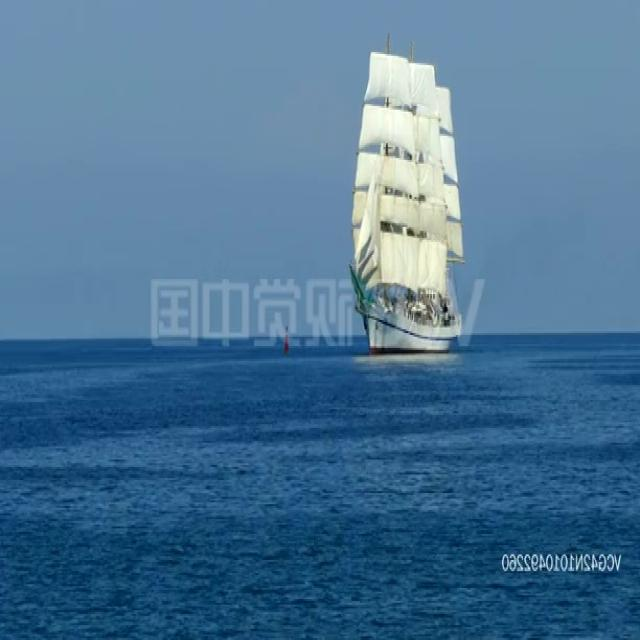sailboat: (351, 31, 478, 356)
